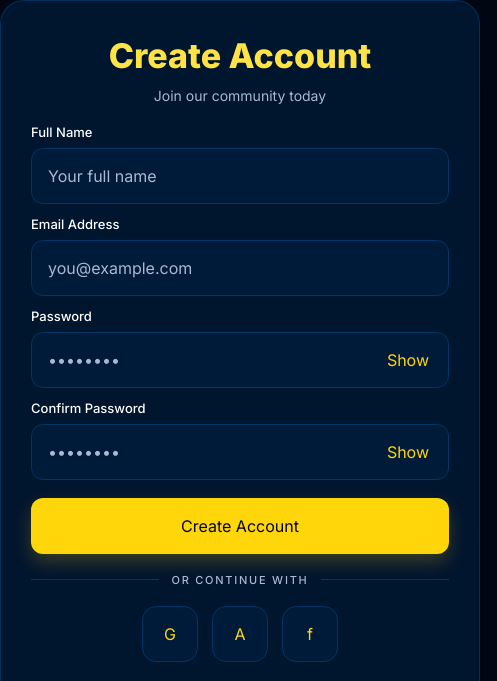
Test: SignUpForm › valida campos obrigatórios incluindo Confirm Password
The width and height of the screenshot is (497, 681).
Click the button "Create Account": (240, 526) x1=31 y1=498 x2=449 y2=554
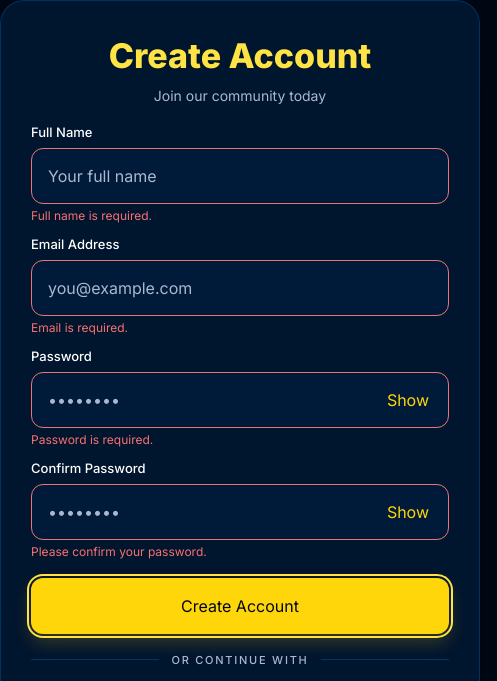
Check: the text "Full name is required." is shown, box x1=31 y1=208 x2=152 y2=222
Check: the text "Email is required." is shown, box x1=31 y1=320 x2=128 y2=334
Check: the text "Password is required." is shown, box x1=31 y1=432 x2=153 y2=446
